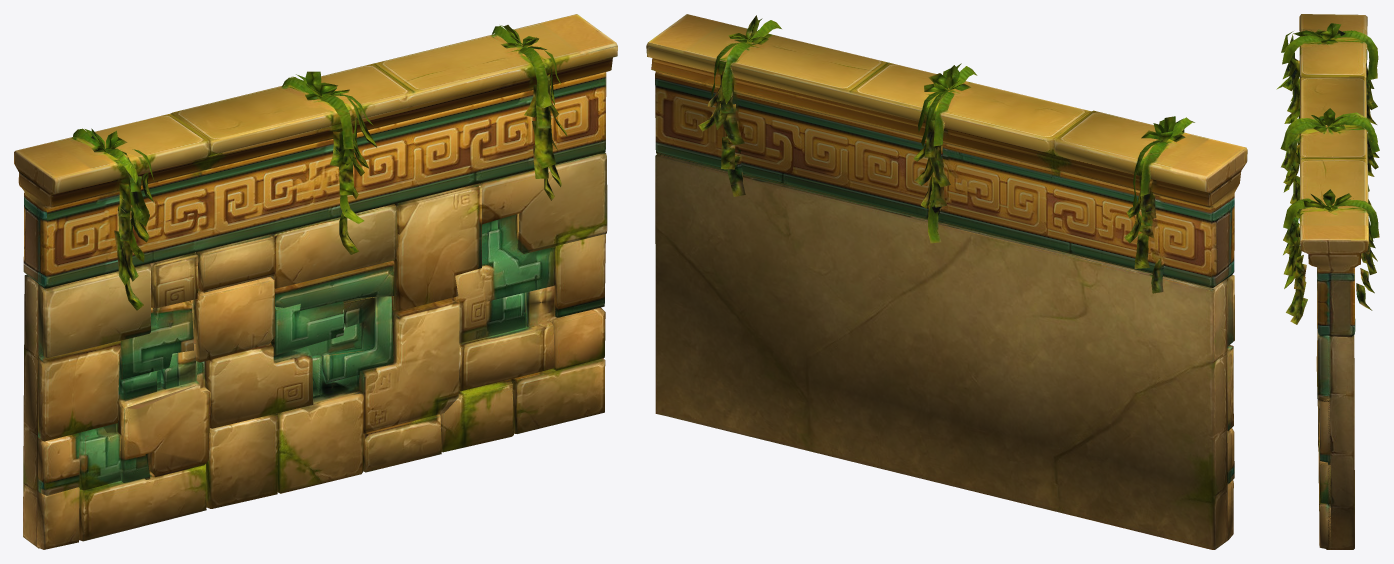
The model's file is wall.glb.
3 renders of one model, left to right at view 1: azimuth 30°, elevation 25°; view 2: azimuth 150°, elevation 25°; view 3: azimuth 270°, elevation 25°, orthographic. The views are drawn at different scales.
Size of the model in its own units: 1 by 0.6816 by 0.1958.
1 material, 1 textured.
